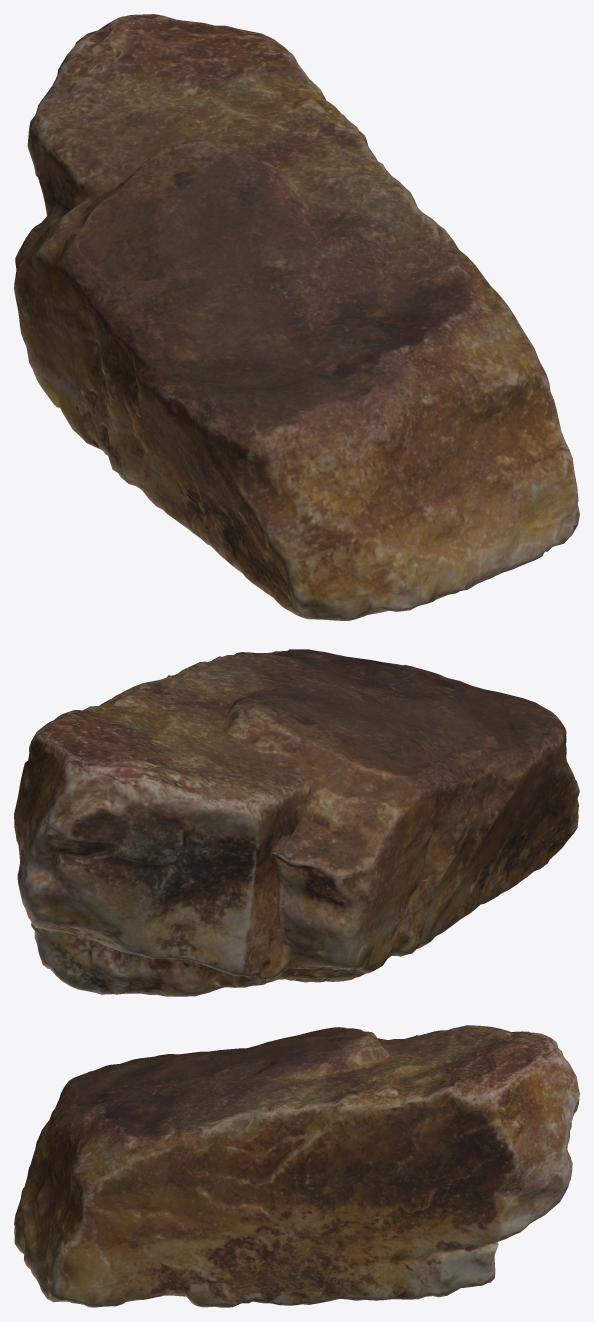
File: rock_07.glb
3 views of the same model, one above another, from view 1: azimuth 30°, elevation 25°; view 2: azimuth 150°, elevation 25°; view 3: azimuth 270°, elevation 25° (orthographic). The views are drawn at different scales.
Visible parts, largest first — view 1: rock_07; view 2: rock_07; view 3: rock_07.
Part boxes in pixels (x1,y1,x2,y2): rock_07: (14,14,579,620); rock_07: (14,649,579,996); rock_07: (14,1025,579,1307).
Bounding box in the file's own units: 0.1689 × 0.1437 × 0.3203.
1 material, 1 textured.
